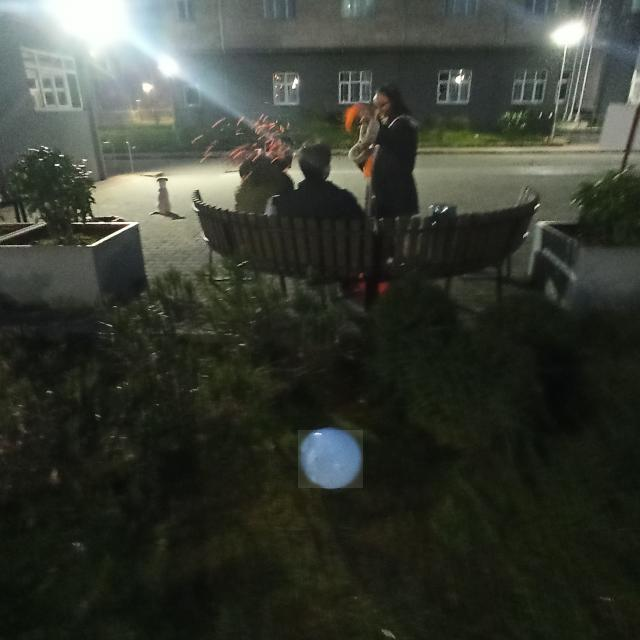balloon: (298, 430, 363, 488)
